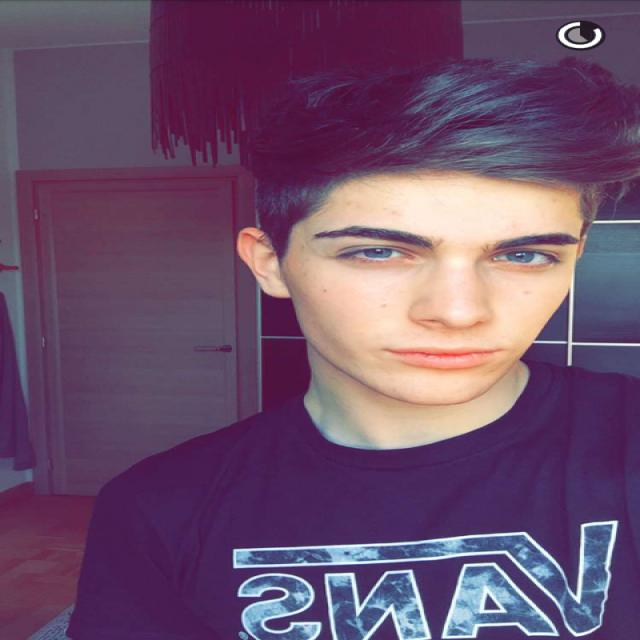earlobe: (260, 271, 291, 299)
nose: (414, 319, 498, 346)
wholeear: (236, 228, 292, 298)
